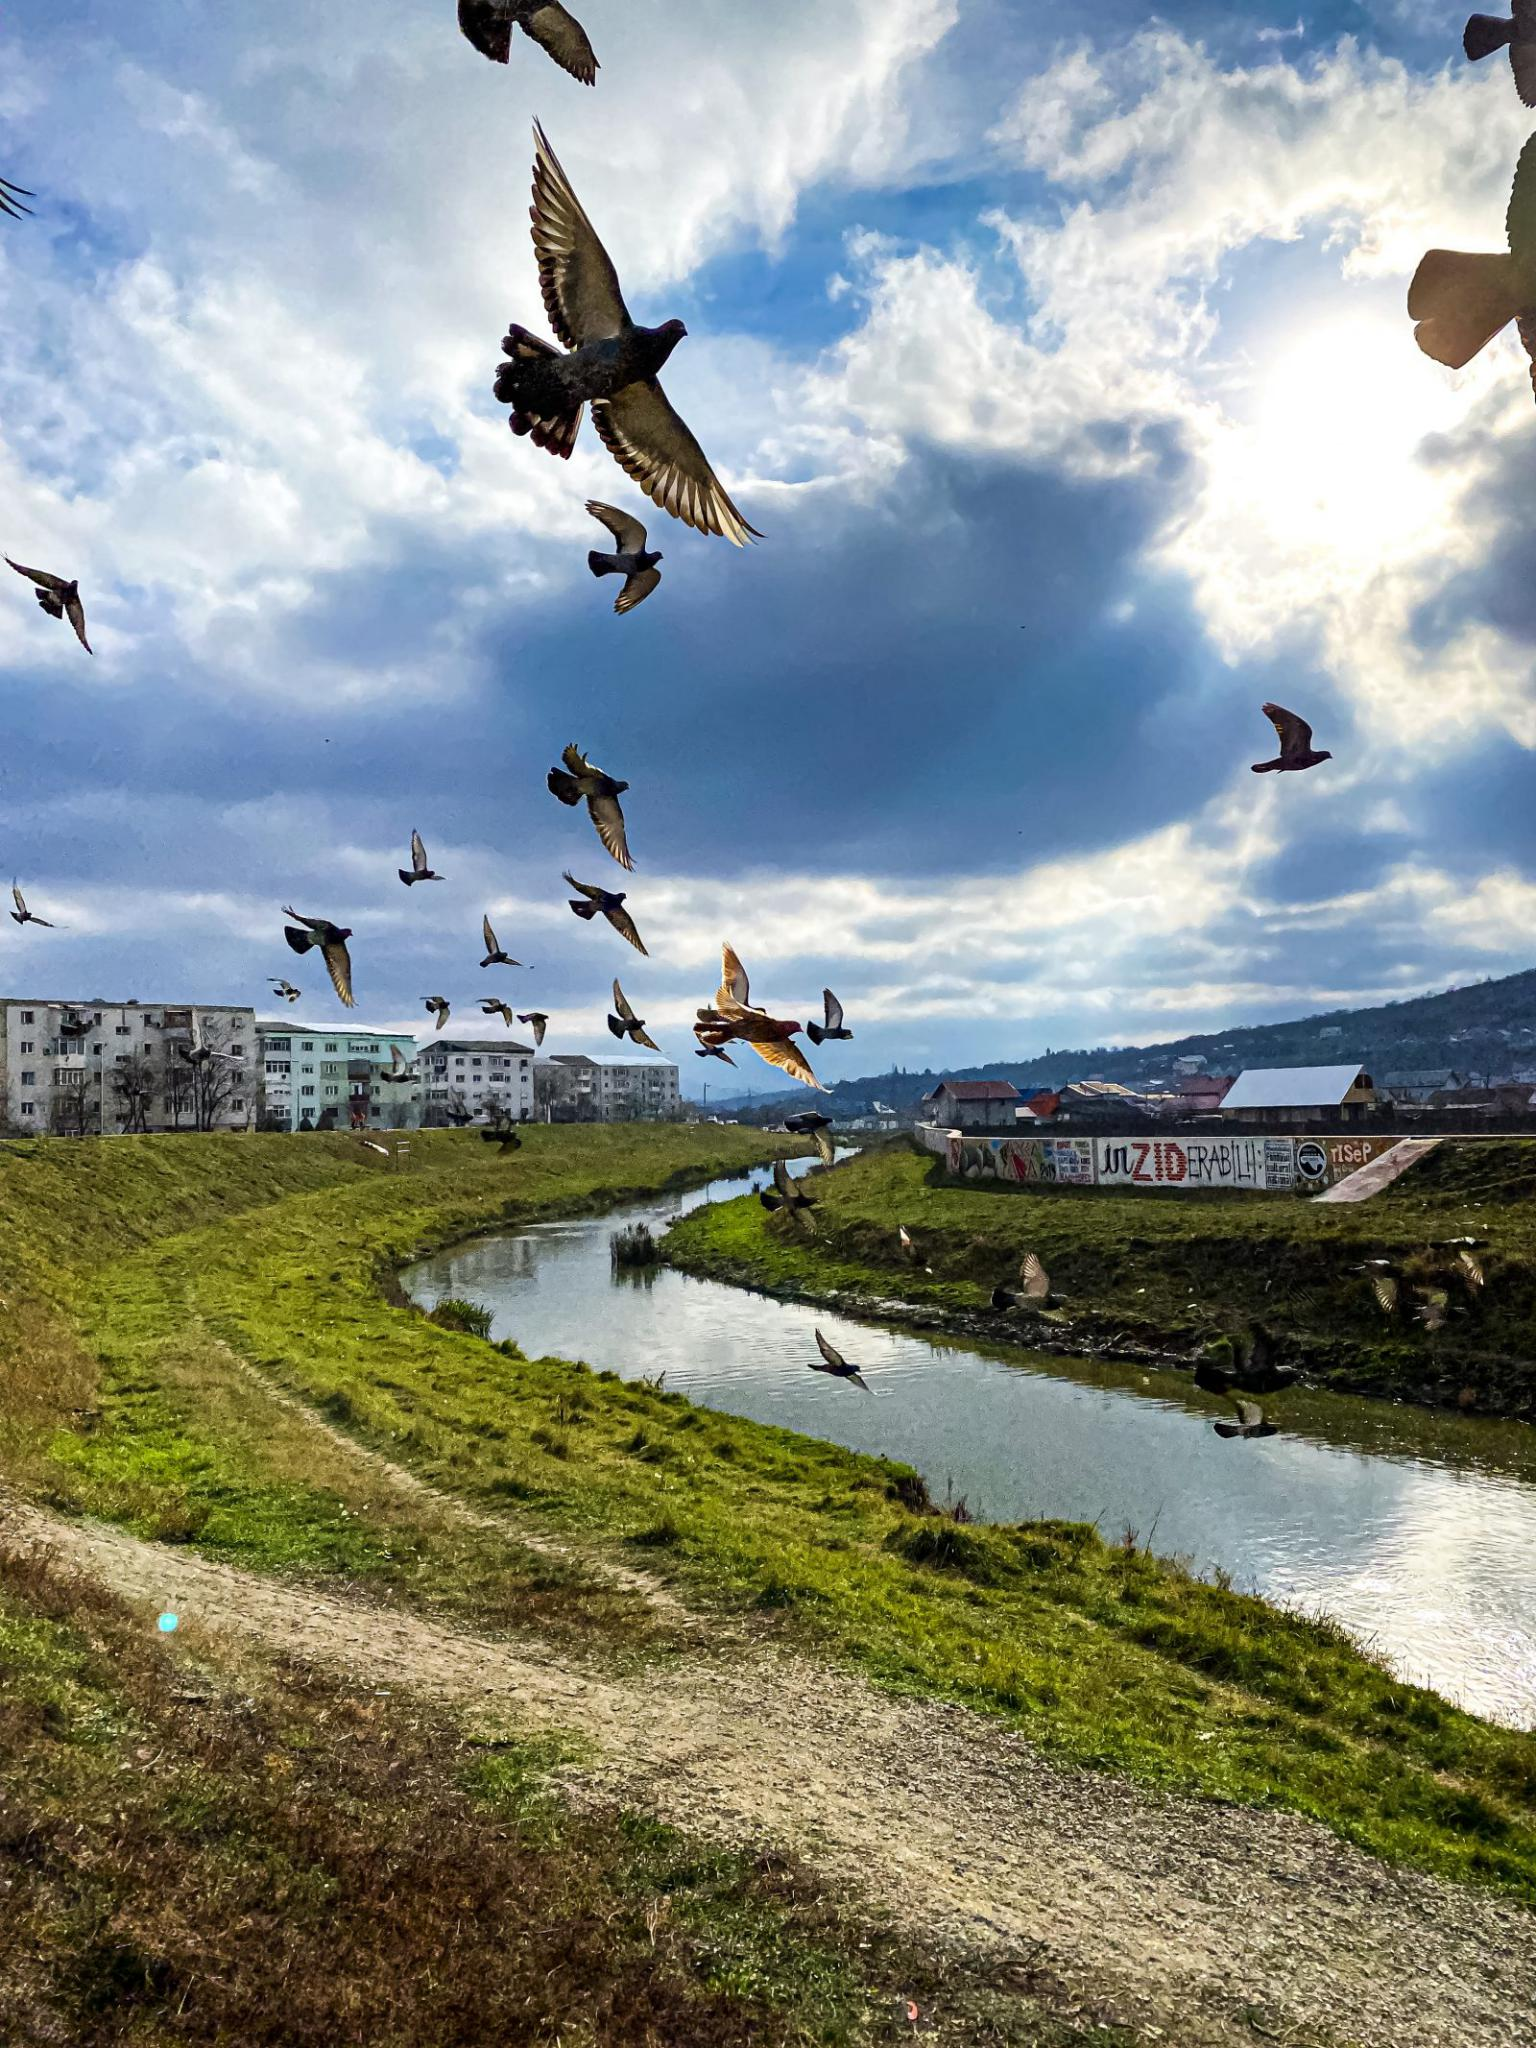bird: (518, 721, 655, 868), (2, 534, 129, 669), (1226, 684, 1352, 792), (376, 806, 465, 901), (784, 1317, 879, 1400), (3, 866, 69, 940)
